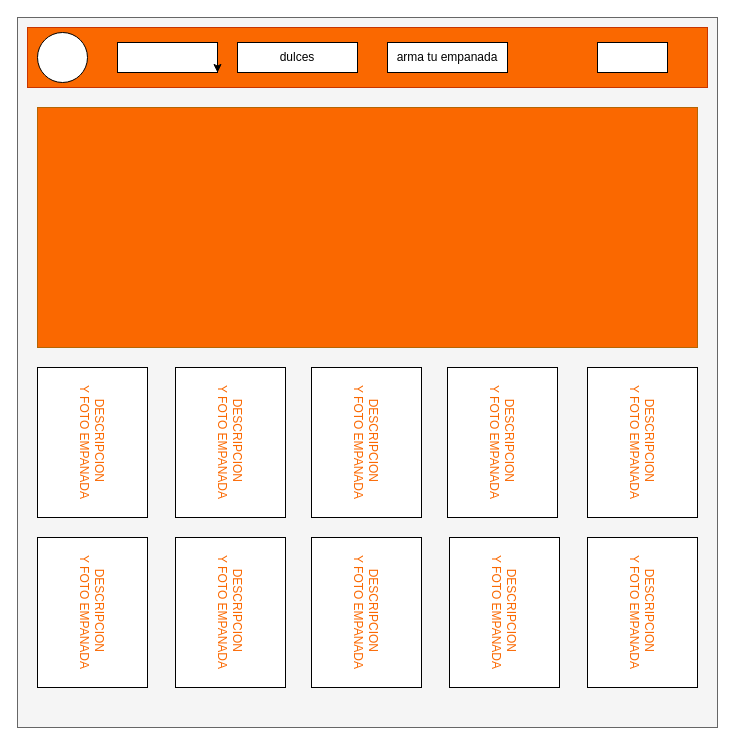
This 735x745 diagram has some shape labels left out. The shapes that lost their labels are listed below. From the top down, each one's box as (x1, y1, x2, y2) in pixels, then its label:
(36, 32, 88, 82): LOGO
(116, 42, 218, 72): categoria empanada
(596, 42, 668, 72): lupa
(36, 106, 698, 348): carrusel
